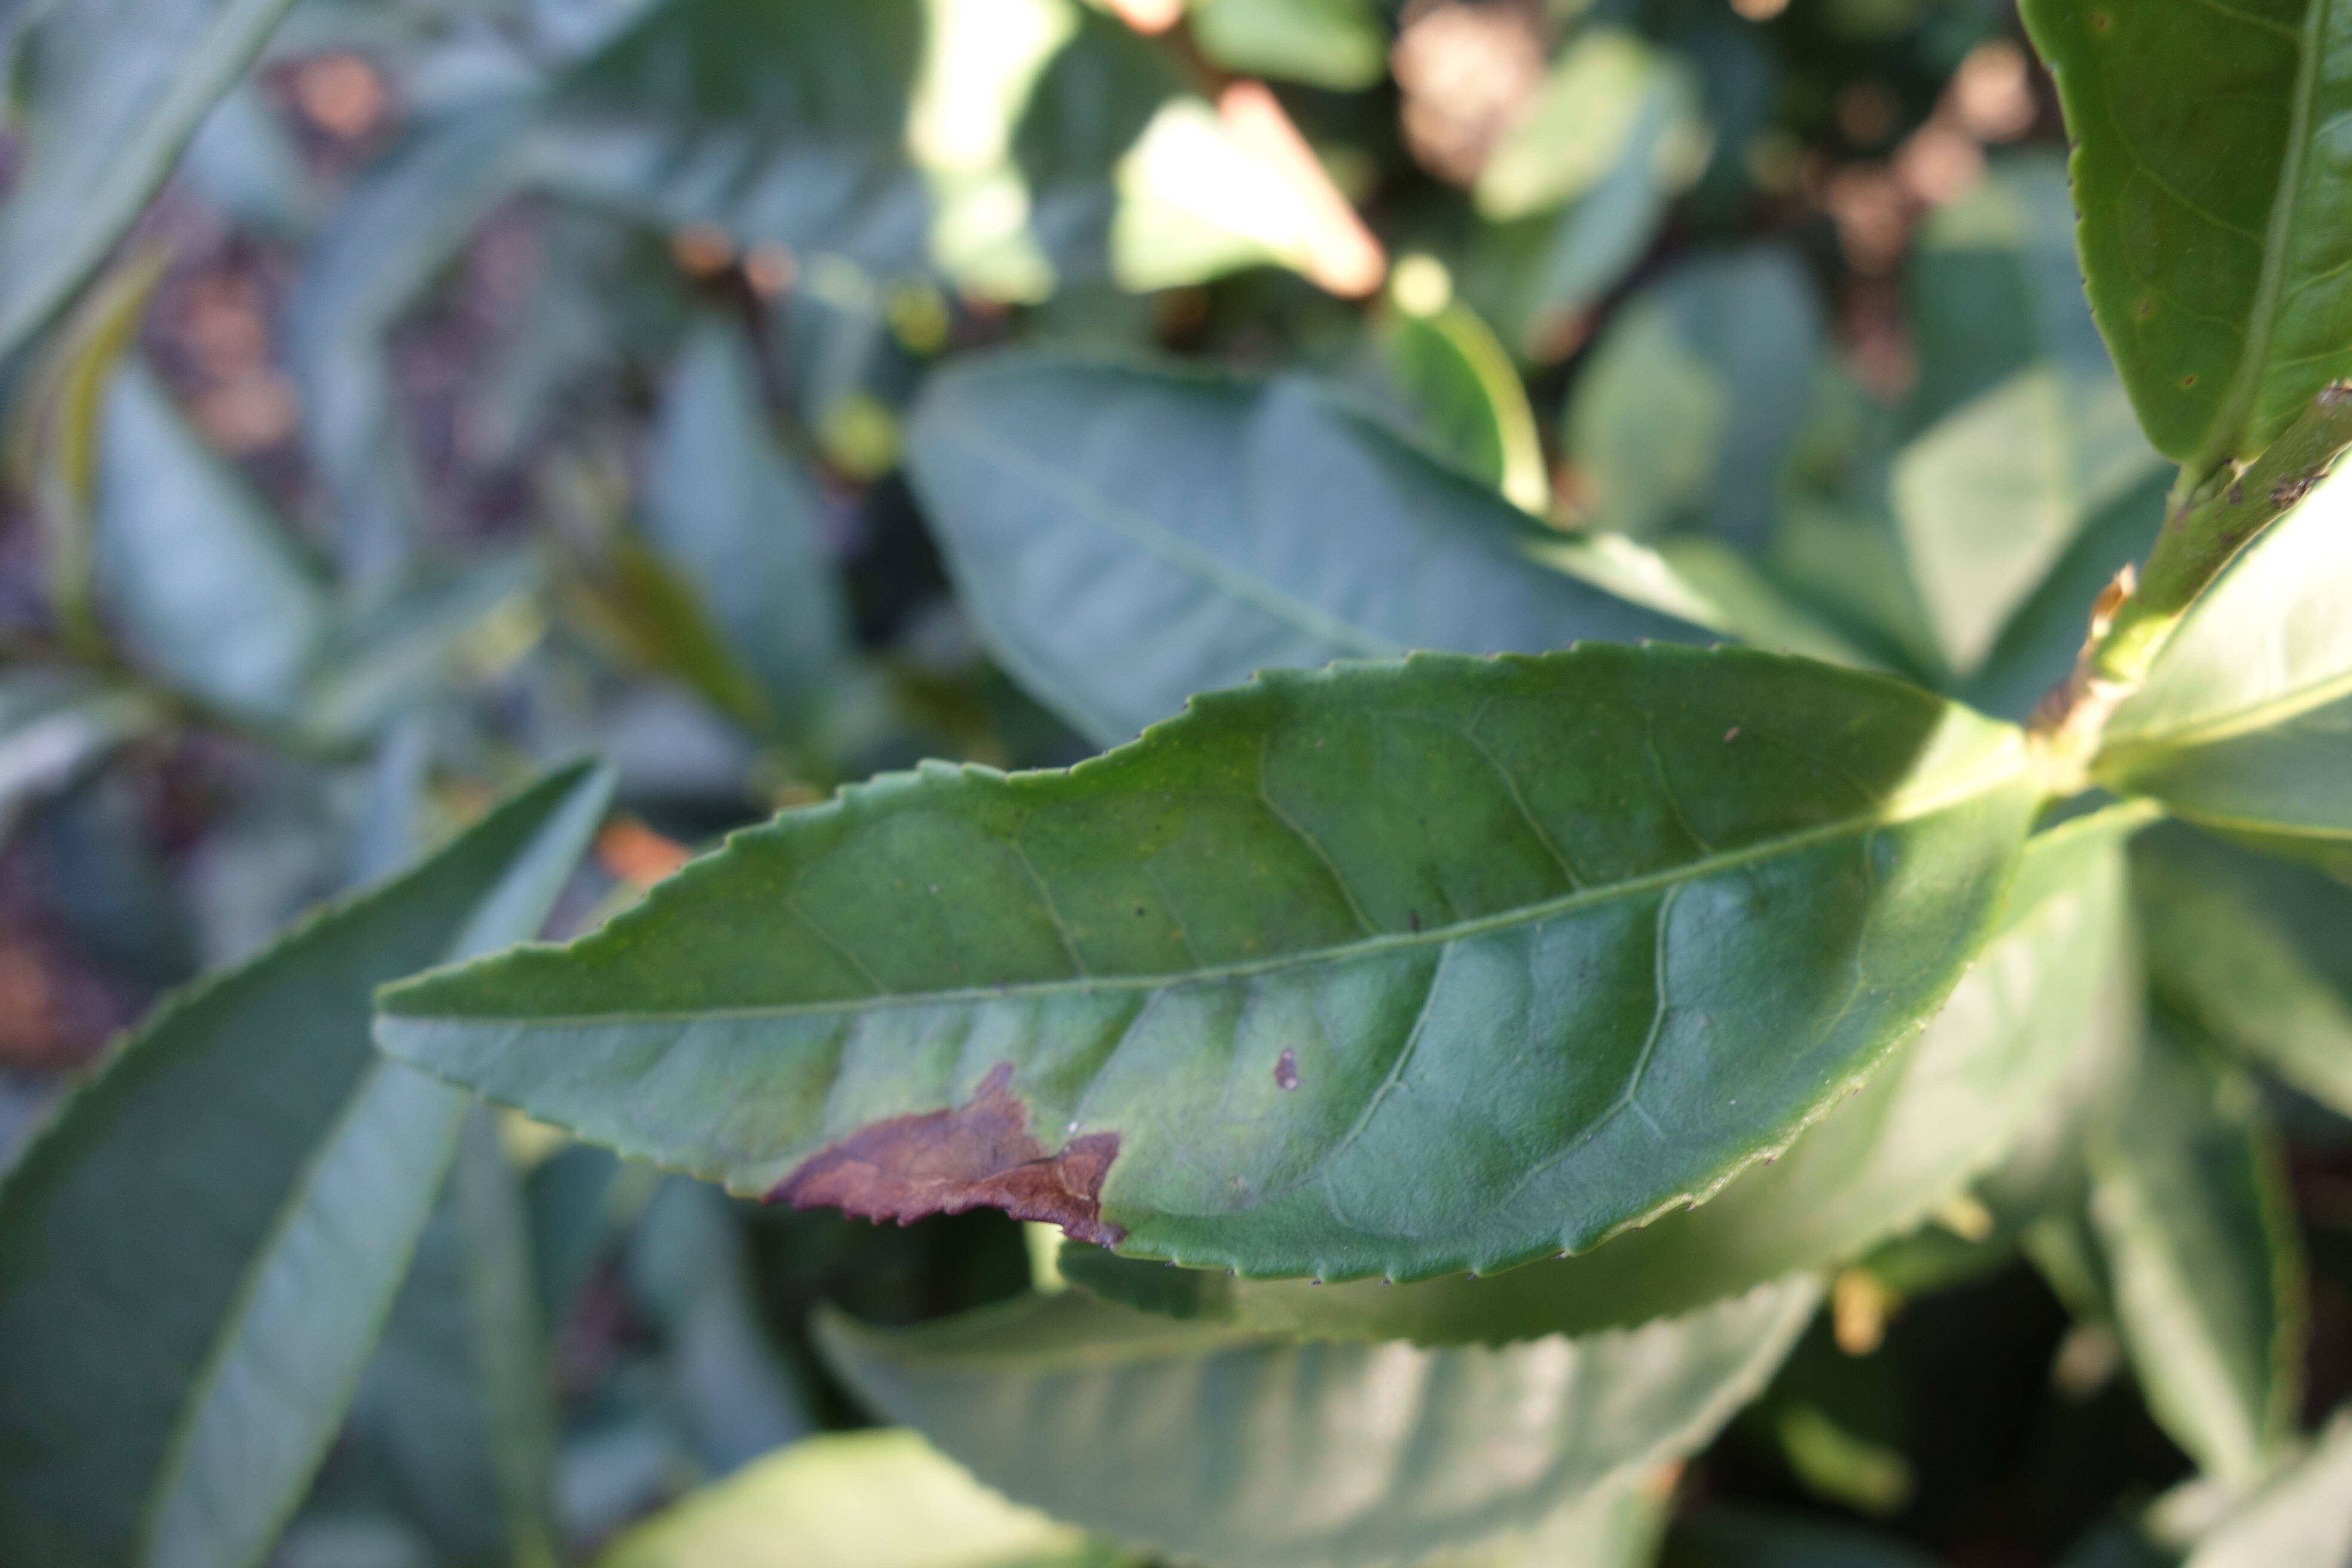tanju_high: (371, 639, 2072, 1288)
